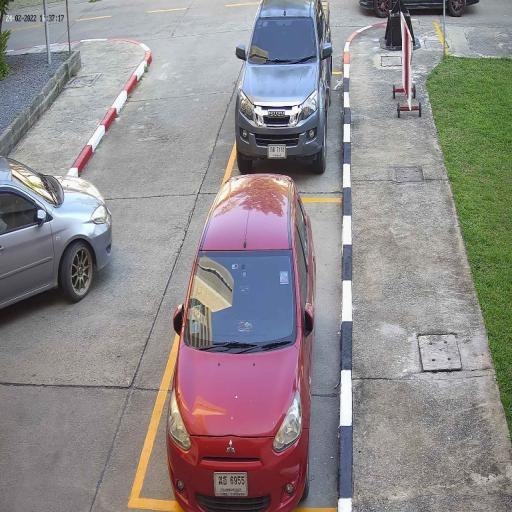car: (166, 171, 318, 507), (0, 154, 115, 317), (234, 0, 334, 178)
